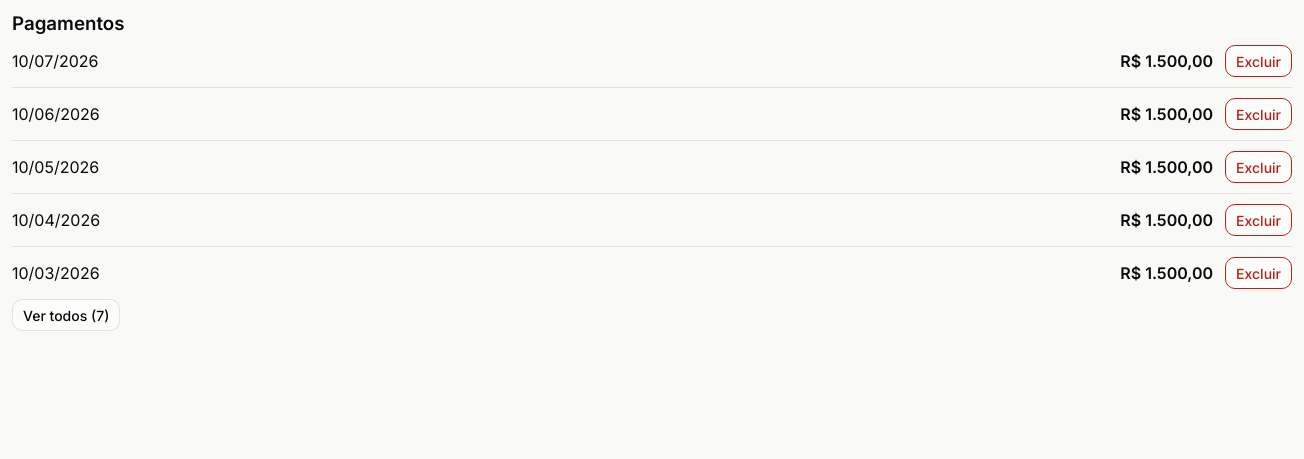
EntryList › shows the 5 most recent entries and expands to all of them
Check: the number of list items is 5, box [12,35,1292,88]; [12,88,1292,141]; [12,141,1292,194]; [12,194,1292,247]; [12,247,1292,299]
Check: the list item "10/07/2026 R$ 1.500,00 Excluir" is shown, box [12,35,1292,88]
Click the button "Ver todos (7)" at (66, 315), box [12,299,120,331]
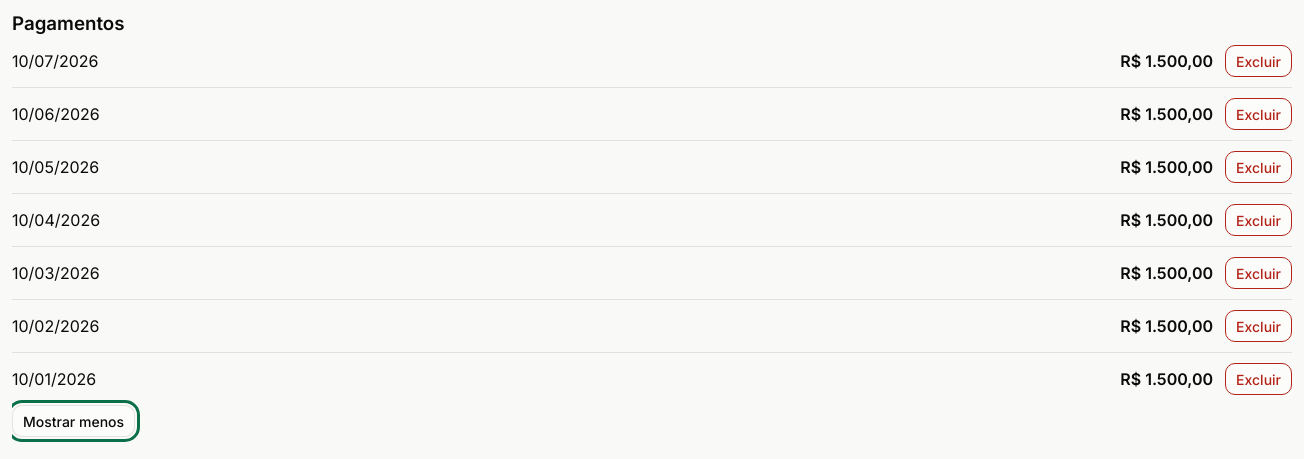
Check: the number of list items is 7
Click the button "Mostrar menos" at (74, 421), box [12,405,135,437]
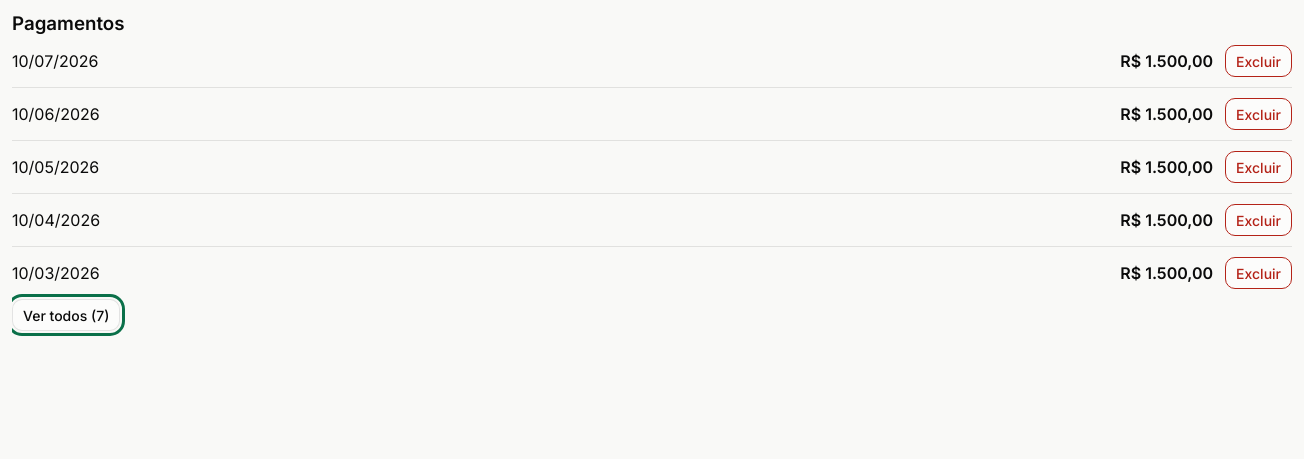
Check: the number of list items is 5, box [12,35,1292,88]; [12,88,1292,141]; [12,141,1292,194]; [12,194,1292,247]; [12,247,1292,299]
